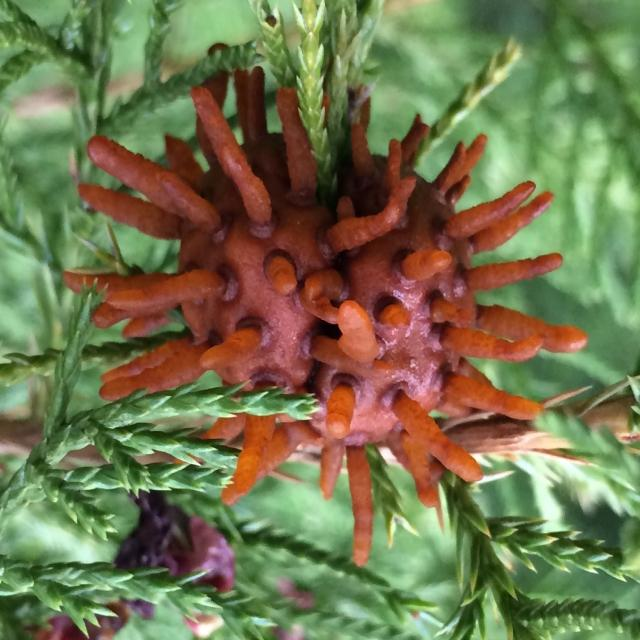Gymnosporangium_Rusts: (61, 56, 590, 568)
